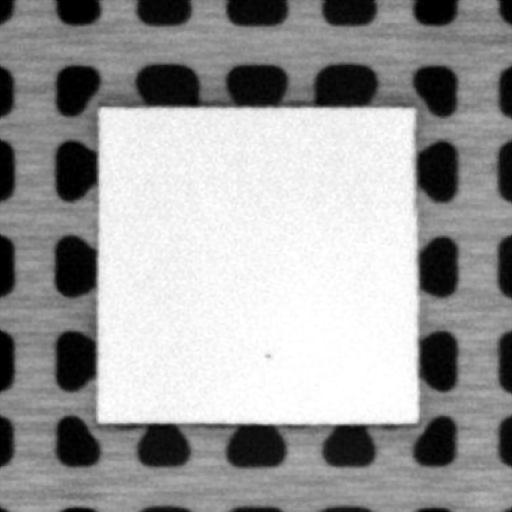DIE_INK: (260, 347, 272, 361)
